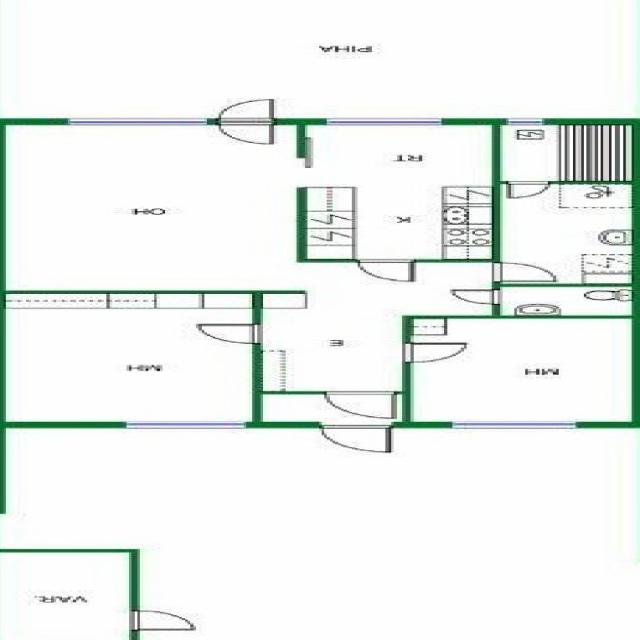door: (322, 422, 390, 450), (326, 392, 395, 418), (219, 118, 272, 144), (219, 100, 272, 124), (130, 610, 193, 630), (198, 324, 260, 344), (359, 259, 413, 281), (404, 343, 466, 362), (492, 263, 554, 281), (508, 181, 550, 198), (454, 290, 500, 304)
